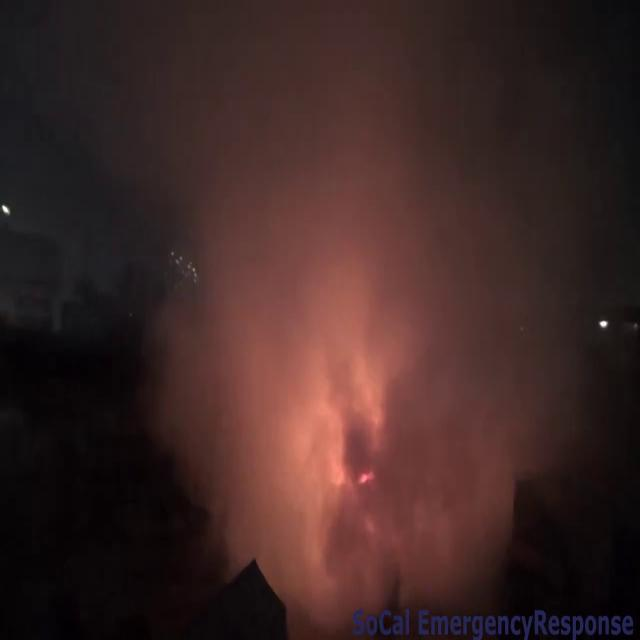Smoke: (135, 2, 615, 600)
